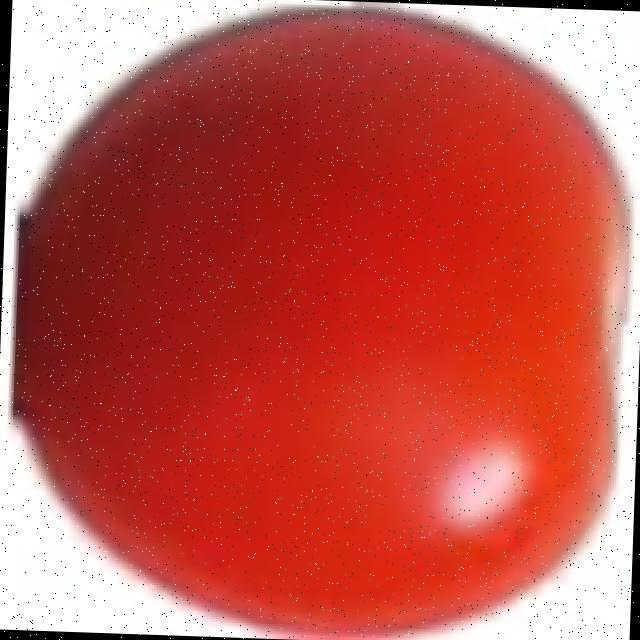tomato: (11, 11, 633, 639)
